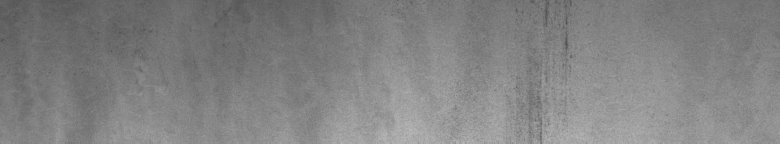ka: (520, 4, 572, 136)
